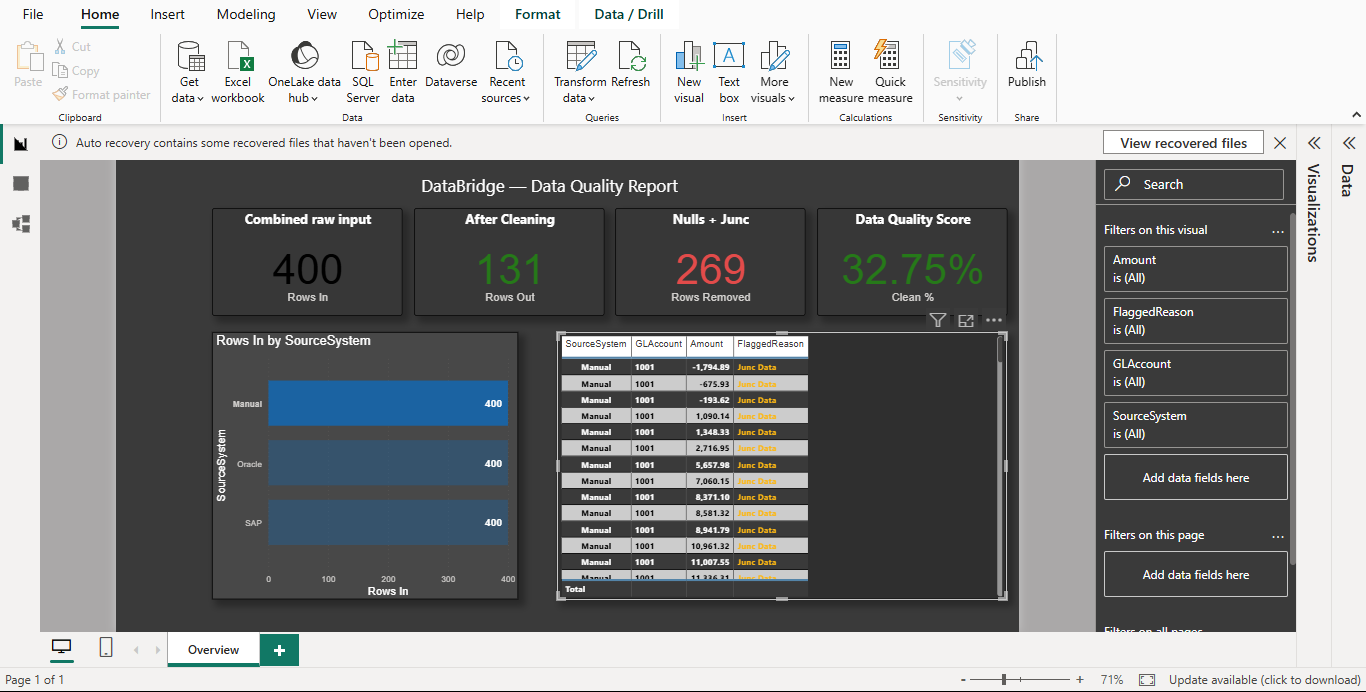

What the dashboard file says about the page in this screenshot:
{"tool":"powerbi","page":{"name":"Overview","canvas":[1280,720],"ordinal":0},"visuals":[{"type":"card","title":"Data Quality Score","fields":{"Values":["CombinedGL.Clean %"]},"box":[993.1,119.1,270.1,152.7],"z":0},{"type":"barChart","fields":{"Category":["CombinedGL.SourceSystem"],"Y":["CombinedGL.Rows In"]},"box":[135.9,295.3,434.5,379.1],"z":1000},{"type":"textbox","box":[0,0,1177.7,110.7],"z":2000},{"type":"card","title":"Nulls + Junc","fields":{"Values":["CombinedGL.Rows Removed"]},"box":[707.9,119.1,270.1,152.7],"z":3000},{"type":"card","title":"After Cleaning","fields":{"Values":["CombinedGL.Rows Out"]},"box":[422.8,119.1,270.1,152.7],"z":4000},{"type":"card","title":"Combined raw input","fields":{"Values":["CombinedGL.Rows In"]},"box":[135.9,119.1,270.1,152.7],"z":5000},{"type":"tableEx","fields":{"Values":["CombinedGL.SourceSystem","CombinedGL.GLAccount","CombinedGL.Amount","CombinedGL.FlaggedRows"]},"box":[625.7,295.3,637.5,379.1],"z":6000},{"type":"textbox","box":[115.8,65.4,996.5,45.3],"z":7000}]}

Visuals, with their boxes on the page's 1280x720 design canvas (x1, y1, x2, y2). These are canvas units, not pixel positions in the 1366x692 screenshot, which may show the page scaled, cropped or inside an application window:
"Data Quality Score" card: select_region(993, 119, 1263, 272)
barChart - CombinedGL.SourceSystem x CombinedGL.Rows In: select_region(136, 295, 570, 674)
textbox: select_region(0, 0, 1178, 111)
"Nulls + Junc" card: select_region(708, 119, 978, 272)
"After Cleaning" card: select_region(423, 119, 693, 272)
"Combined raw input" card: select_region(136, 119, 406, 272)
tableEx - CombinedGL.SourceSystem x CombinedGL.GLAccount: select_region(626, 295, 1263, 674)
textbox: select_region(116, 65, 1112, 111)
